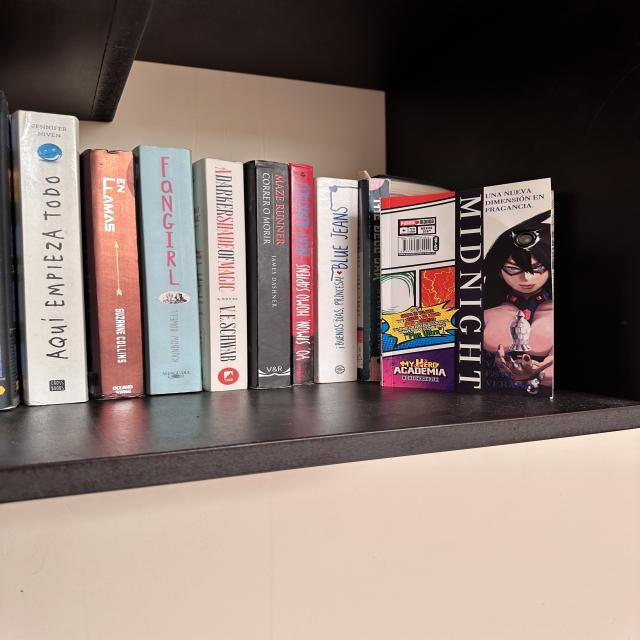hidden camera: (515, 232, 536, 247)
